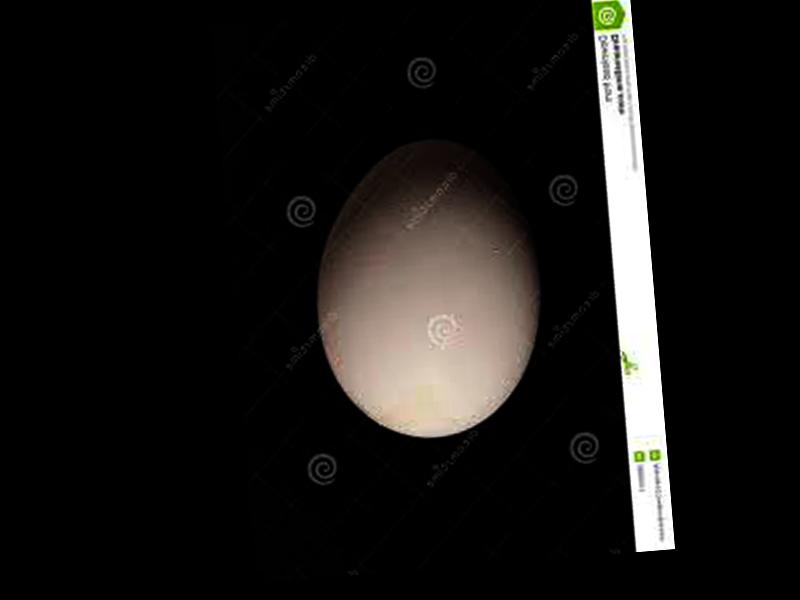Eggs: (304, 130, 552, 448)
